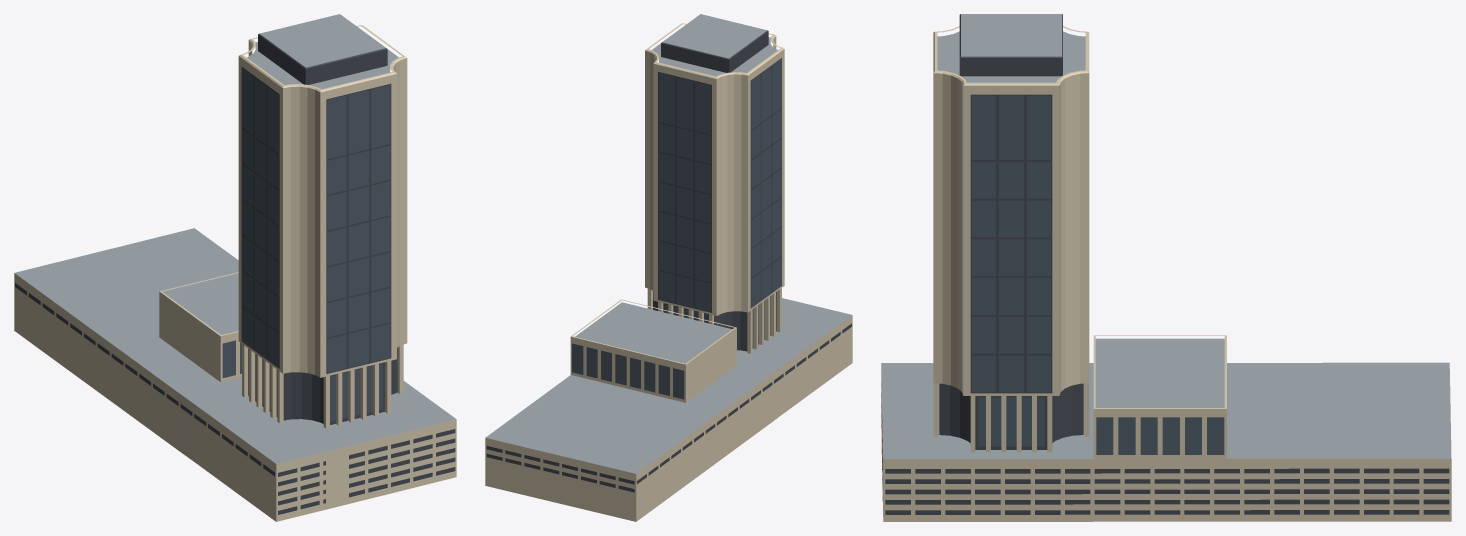
File: ric-james-monroe-building.glb
The picture shows the model from 3 angles, left to right: view 1: azimuth 30°, elevation 25°; view 2: azimuth 150°, elevation 25°; view 3: azimuth 270°, elevation 25°; orthographic projection. The views are drawn at different scales.
Parts seen in each view (by area): view 1: James Monroe Building; view 2: James Monroe Building; view 3: James Monroe Building.
Part boxes in pixels (x1,y1,x2,y2): James Monroe Building: (14, 14, 456, 521); James Monroe Building: (485, 14, 852, 521); James Monroe Building: (881, 14, 1451, 521).
Size of the model in its own units: 64.2 by 138 by 160.
